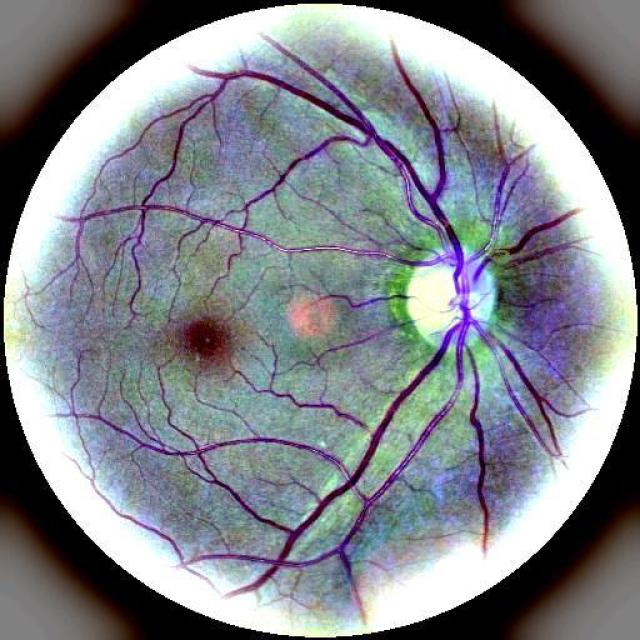Macula: (184, 319, 228, 358)
Nerves: (191, 36, 478, 502)
Optic Disk: (408, 265, 492, 335)
